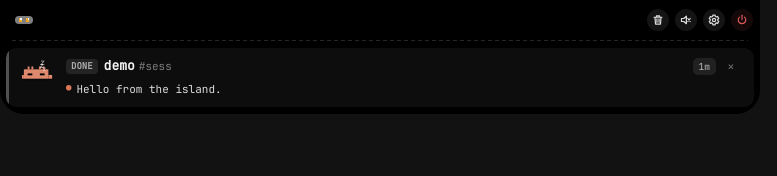
Test: notch panel surfaces › cancels idle removal on Escape, invalidation, and leaving the session list
Later steps or results of the test are not shown.
Click the button named "Remove idle sessions".
click(658, 20)  # box [646,8,670,32]
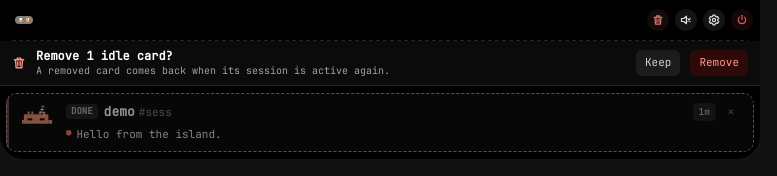
Press Escape in the button "Keep", box [636,50,680,76]
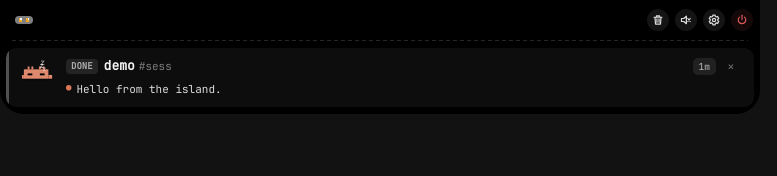
Expected: the button "Keep" is gone
